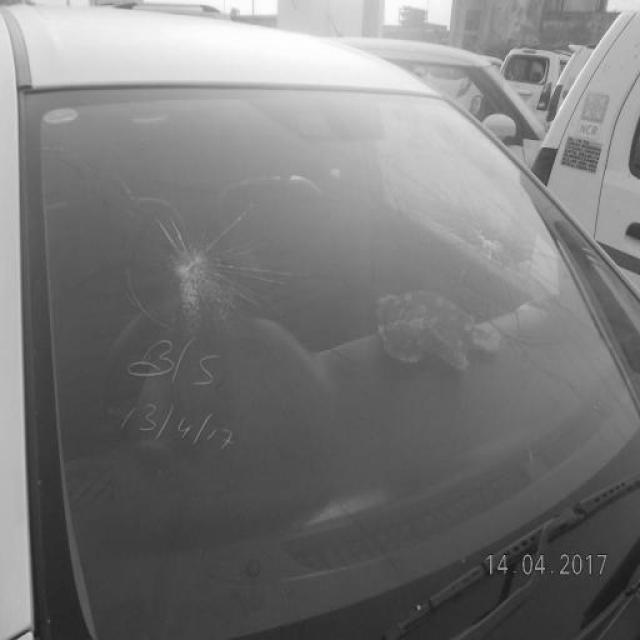crack: (154, 238, 226, 296), (467, 212, 518, 263)
